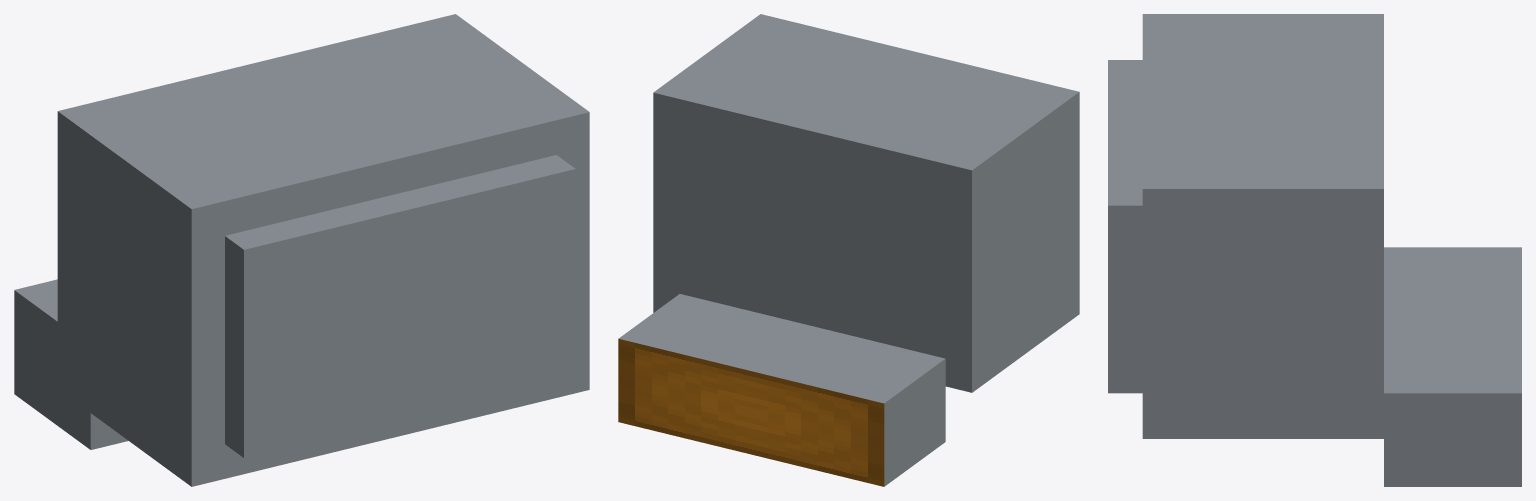
The model's file is lps_wall_pack_on.obj.
3 views of the same model, side by side, from view 1: azimuth 30°, elevation 25°; view 2: azimuth 150°, elevation 25°; view 3: azimuth 270°, elevation 25° (orthographic). The views are drawn at different scales.
Parts seen in each view (by area): view 1: lps_wall_pack_on; view 2: lps_wall_pack_on; view 3: lps_wall_pack_on.
Part boxes in pixels (box(x1,y1,x2,y2)): lps_wall_pack_on: box(14, 14, 589, 486); lps_wall_pack_on: box(618, 14, 1079, 486); lps_wall_pack_on: box(1108, 14, 1521, 486).
Bounding box in the file's own units: 0.75 × 0.625 × 0.75.
